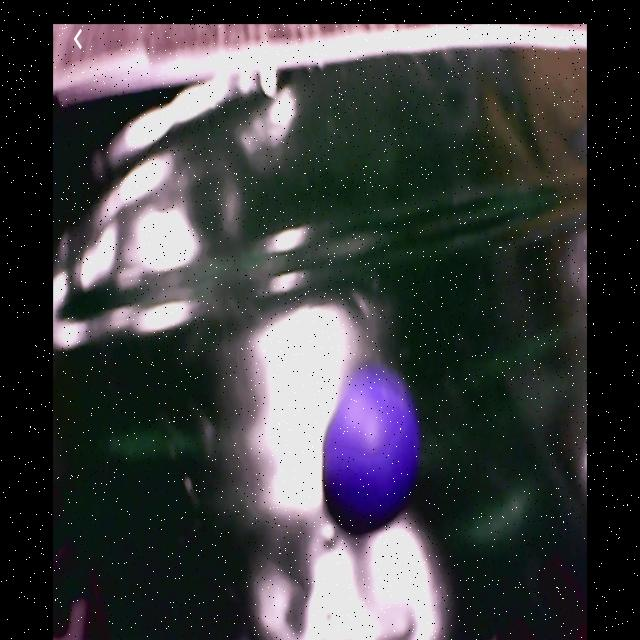ball: (319, 369, 423, 530)
